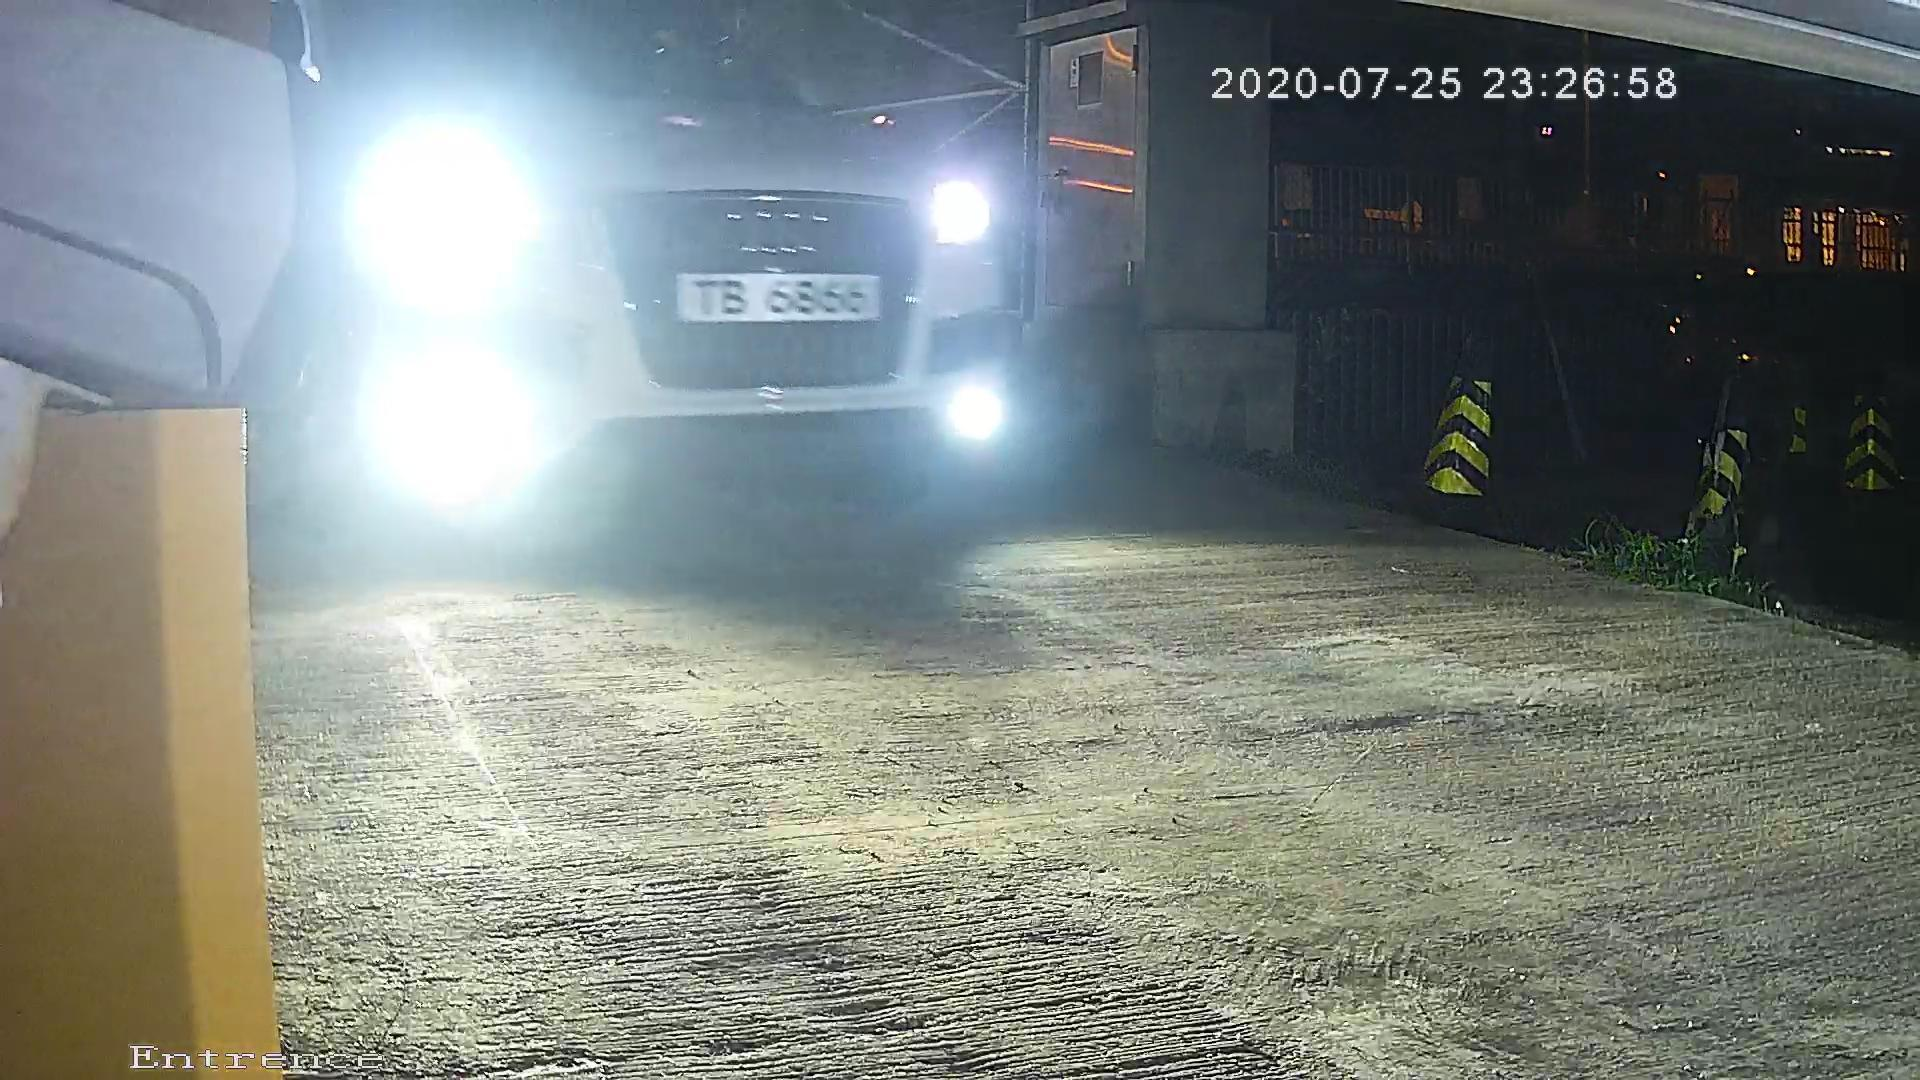privatecar: (291, 49, 1226, 584)
